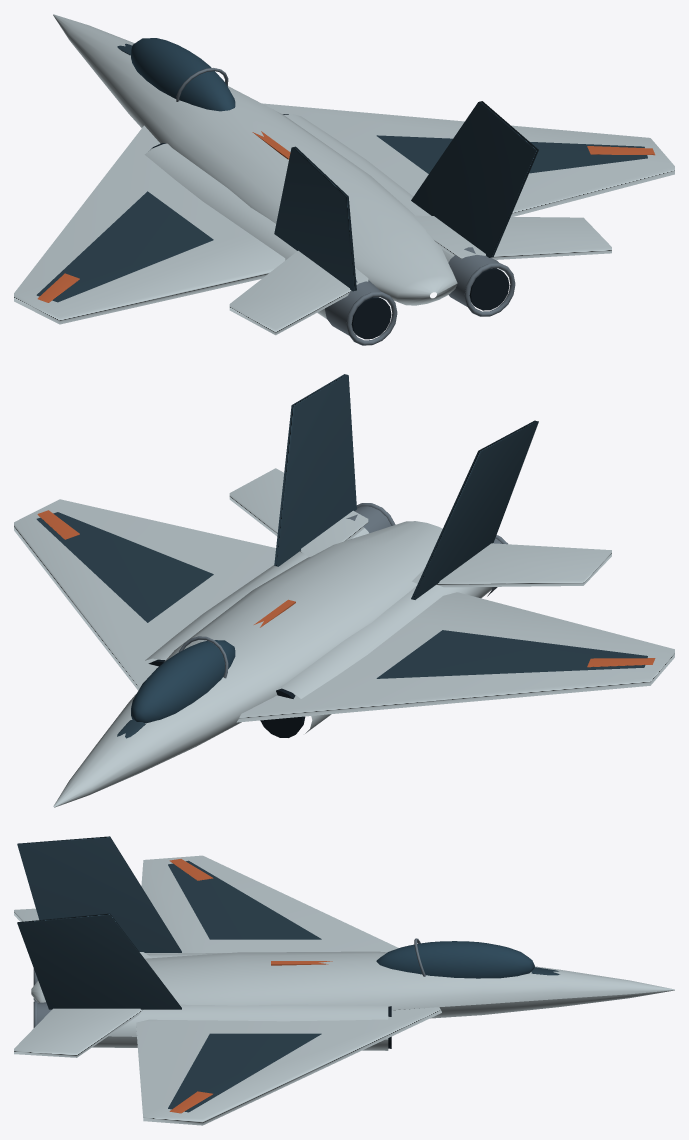
The model's file is player-vector-mobile-v1.glb.
The picture shows the model from 3 angles, top to bottom: view 1: azimuth 30°, elevation 25°; view 2: azimuth 150°, elevation 25°; view 3: azimuth 270°, elevation 25°; orthographic projection. The views are drawn at different scales.
Parts seen in each view (by area): view 1: hull, trim, canopy, metal, dark, accent; view 2: hull, trim, canopy, accent, metal, dark; view 3: hull, trim, canopy, accent, metal.
Boxes of the visible parts, x1,y1,x2,y2 form: hull: (14,14,674,335); trim: (36,43,647,302); canopy: (131,38,235,111); metal: (176,68,515,345); dark: (150,114,509,339); accent: (37,131,655,302); hull: (14,468,674,807); trim: (36,374,647,738); canopy: (131,640,235,723); accent: (37,510,655,667); metal: (178,503,507,678); dark: (148,659,305,737); hull: (14,855,674,1125); trim: (17,836,559,1112); canopy: (376,941,534,978); accent: (169,859,332,1113); metal: (33,938,425,1027).
Bounding box in the file's own units: 17.8 × 4.66 × 18.9.
